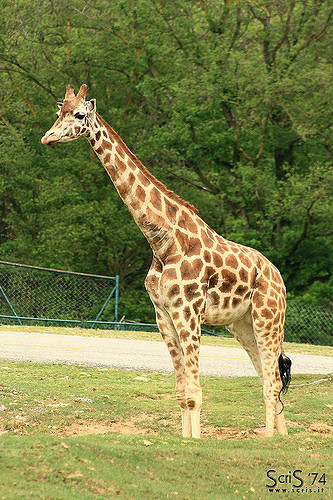giraffe: (39, 85, 314, 456)
